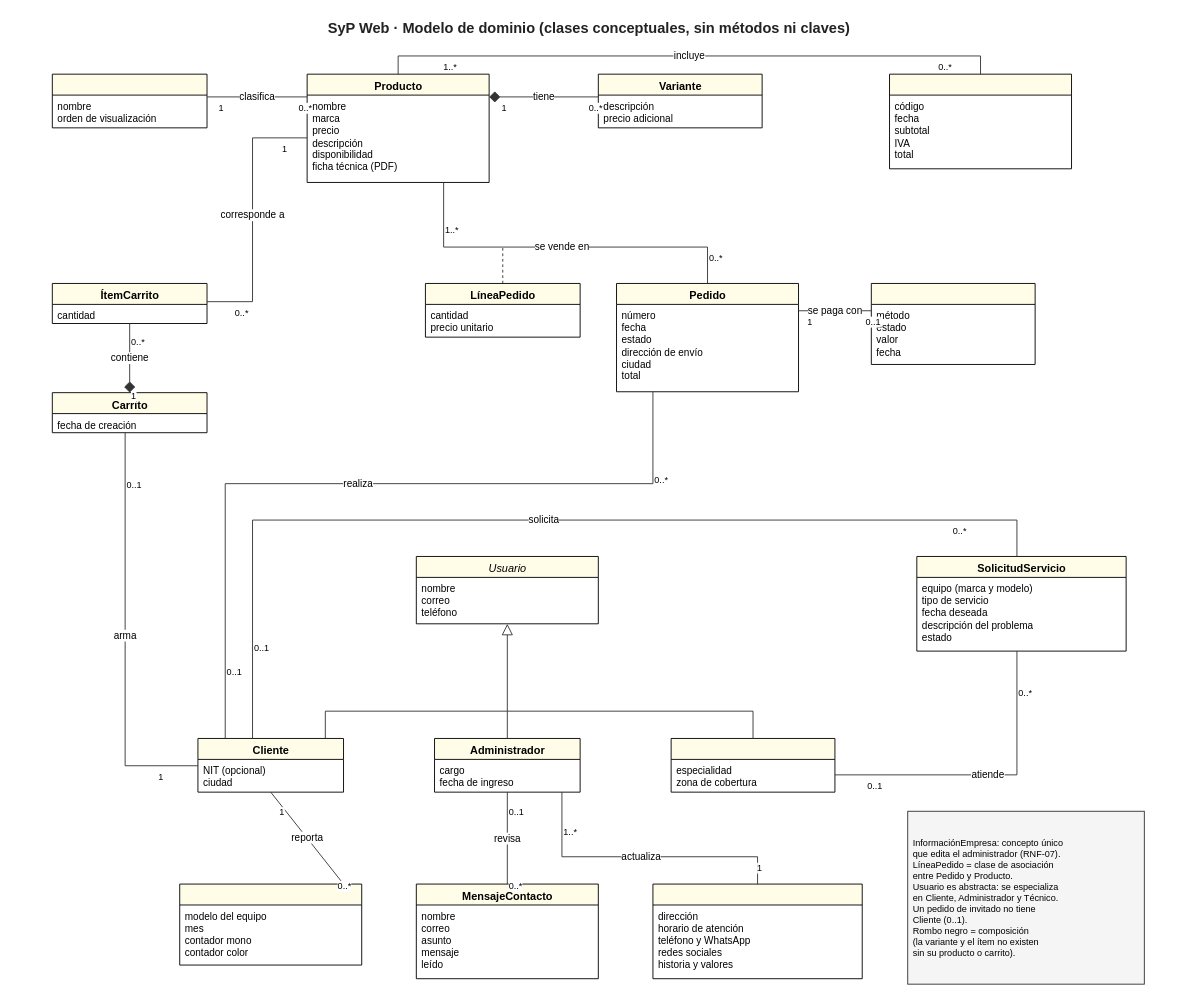
The diagram is 1178 pixels wide and 1000 high, and some of its shapes have lost their labels. Here are the shapes that lost their labels. From the top down, the box of each, then its label:
(51, 73, 207, 128): Categoría
(889, 73, 1072, 169): Cotización
(870, 283, 1035, 364): Pago
(670, 738, 835, 792): Técnico
(179, 883, 362, 965): ReporteContador
(652, 883, 862, 979): InformaciónEmpresa
